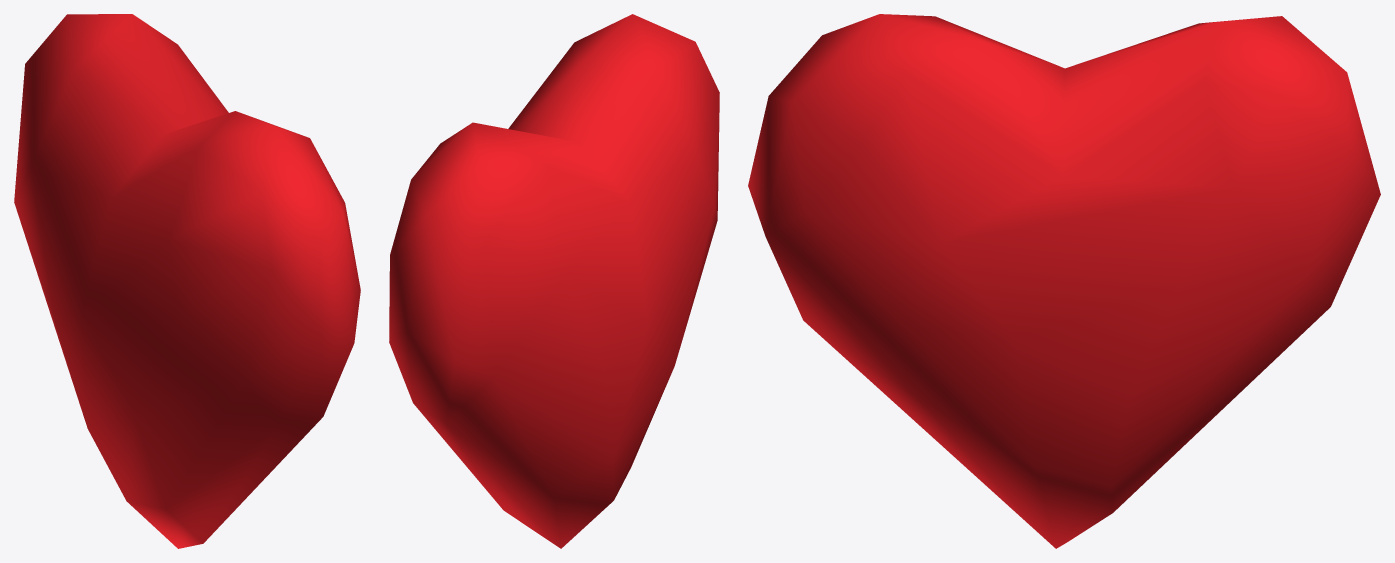
File: Heart.obj
The picture shows the model from 3 angles, left to right: view 1: azimuth 30°, elevation 25°; view 2: azimuth 150°, elevation 25°; view 3: azimuth 270°, elevation 25°; orthographic projection. The views are drawn at different scales.
Visible parts, largest first — view 1: Heart; view 2: Heart; view 3: Heart.
Part boxes in pixels (x1,y1,x2,y2): Heart: [14, 14, 360, 548]; Heart: [389, 14, 719, 548]; Heart: [748, 14, 1380, 548].
Size of the model in its own units: 60.53 by 141 by 151.
Materials: 1 (1 with a texture image).
